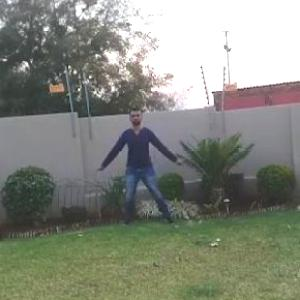land: (96, 104, 190, 230)
